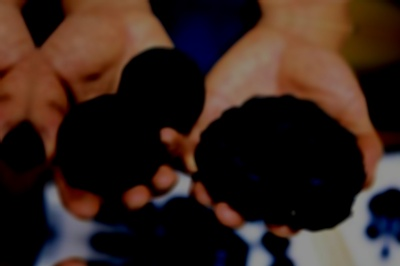halobolite: (184, 79, 381, 239), (54, 94, 163, 211), (121, 42, 215, 137)
